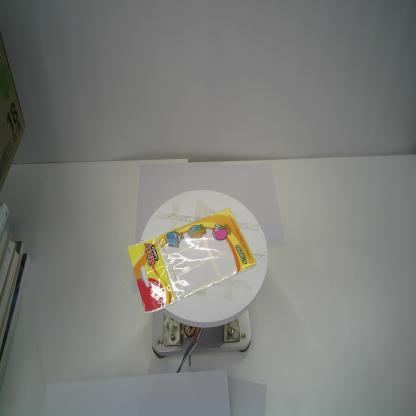Stationery: (127, 204, 259, 315)
